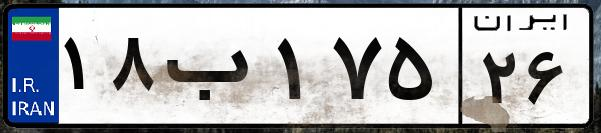1: (270, 28, 330, 110), (57, 26, 110, 100)
2: (475, 38, 525, 113)
5: (385, 28, 445, 110)
6: (525, 38, 570, 115)
7: (330, 28, 385, 110)
8: (110, 28, 158, 98)
ب: (158, 20, 270, 120)
